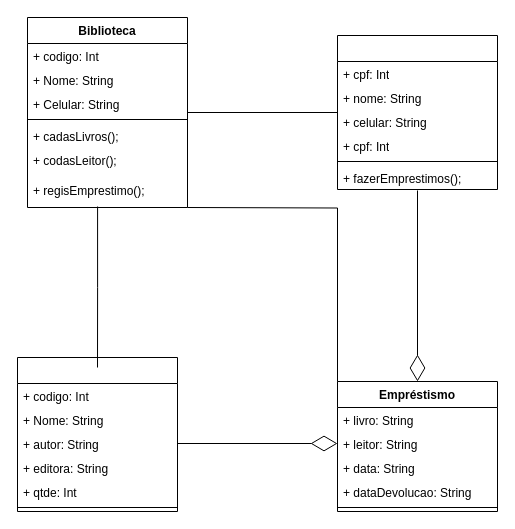
Some shapes in this 515 by 529 pixel diagram are drawn without their labels. The box of each missing label's shape, as (x1, y1, x2, y2) in pixels:
Leitor: (336, 34, 498, 190)
Livros: (16, 356, 178, 512)
